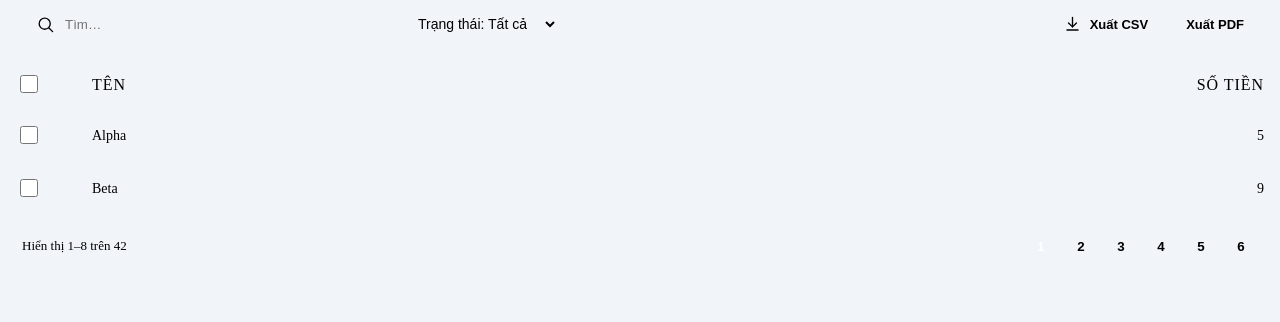
Test: DataTable › select-all toggles every row on the page
Step 1. Click the checkbox named "select all" → click(29, 84), box [20, 75, 38, 93]
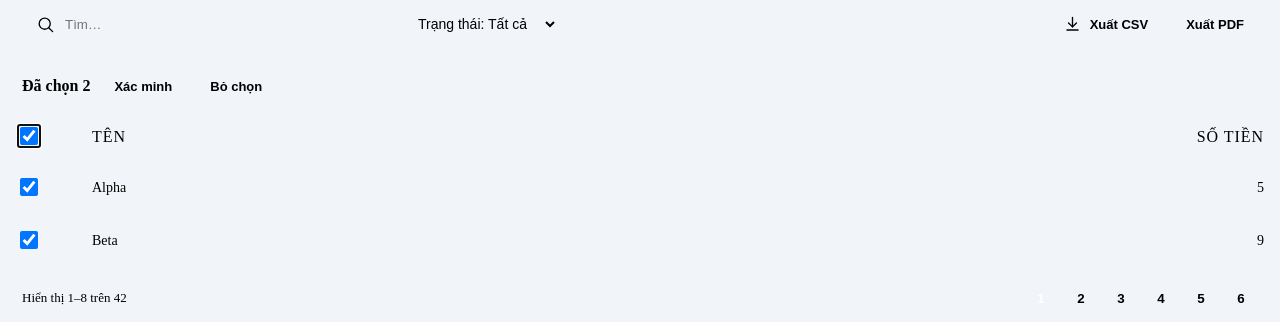
Expected: the text "Đã chọn 2 Xác minh Bỏ chọn" is shown, [22, 70, 276, 102]
